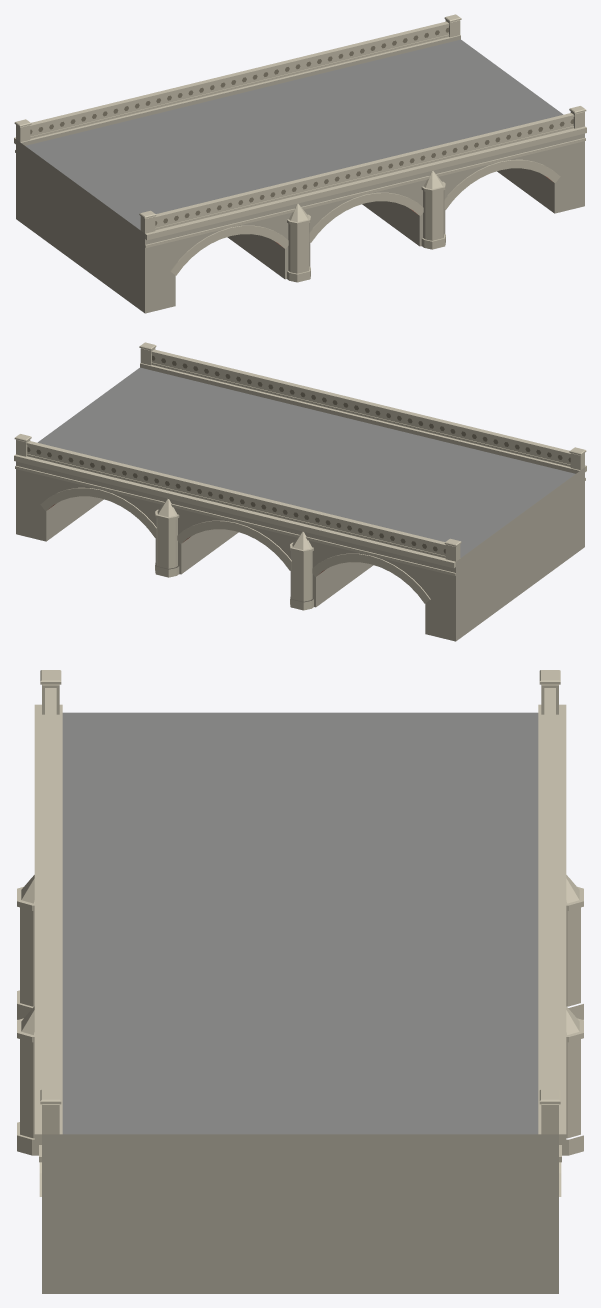
File: nyc-nethermead-arches.glb
3 renders of one model, top to bottom at view 1: azimuth 30°, elevation 25°; view 2: azimuth 150°, elevation 25°; view 3: azimuth 270°, elevation 25°, orthographic. The views are drawn at different scales.
Visible parts, largest first — view 1: Nethermead Arches; view 2: Nethermead Arches; view 3: Nethermead Arches.
Boxes of the visible parts, x1=… form: Nethermead Arches: x1=14, y1=14, x2=586, y2=313; Nethermead Arches: x1=14, y1=342, x2=586, y2=641; Nethermead Arches: x1=17, y1=670, x2=583, y2=1293.
Bounding box in the file's own units: 34.72 × 7.3 × 19.3.
